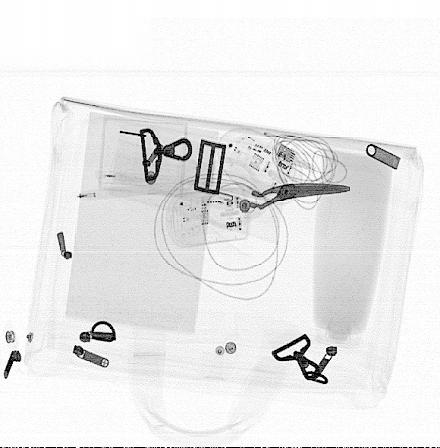Scissors: (201, 154, 352, 232)
